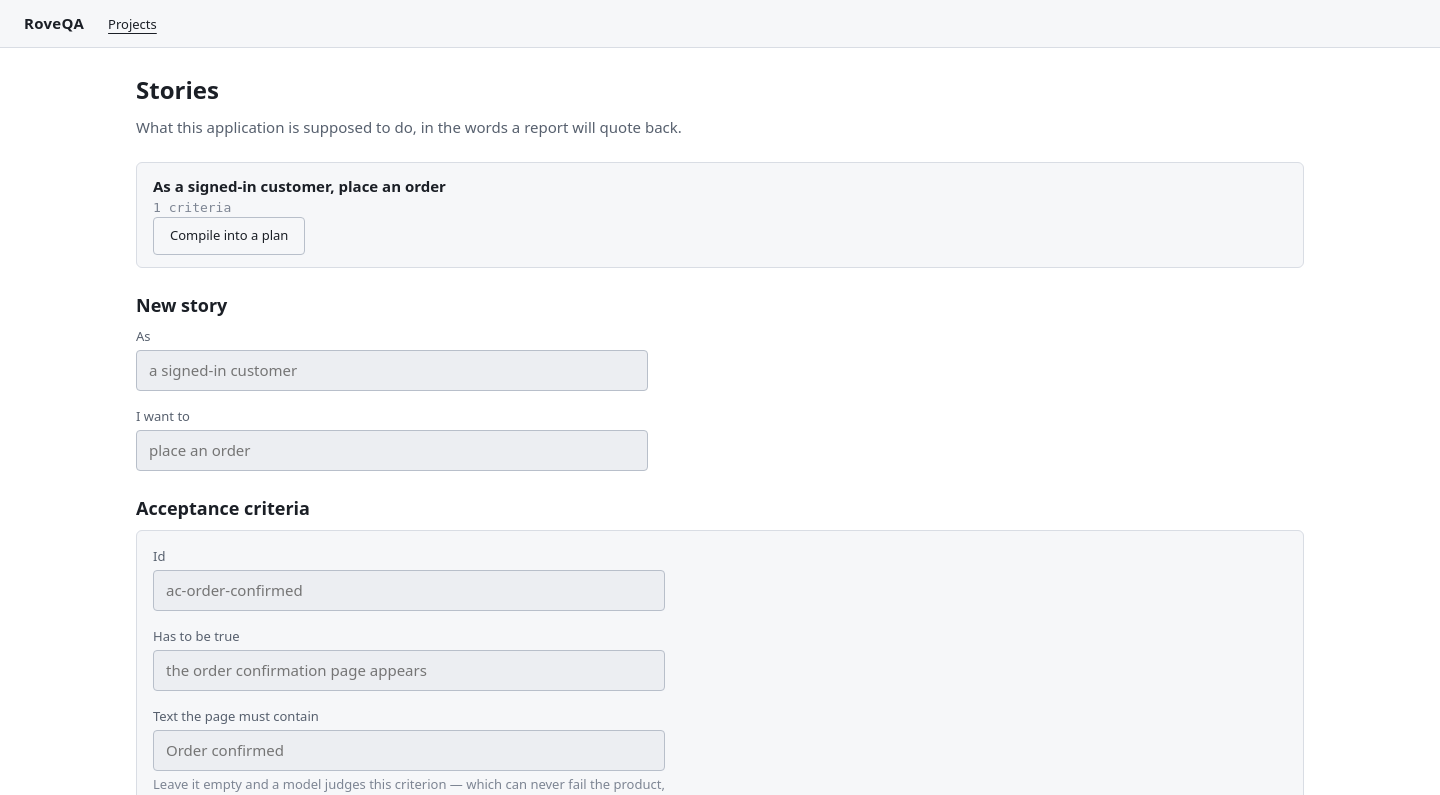
compiling › compiles under the project's policy and moves on to starting a run
Click the button "Compile into a plan".
click(229, 236)  # box [153,217,305,254]
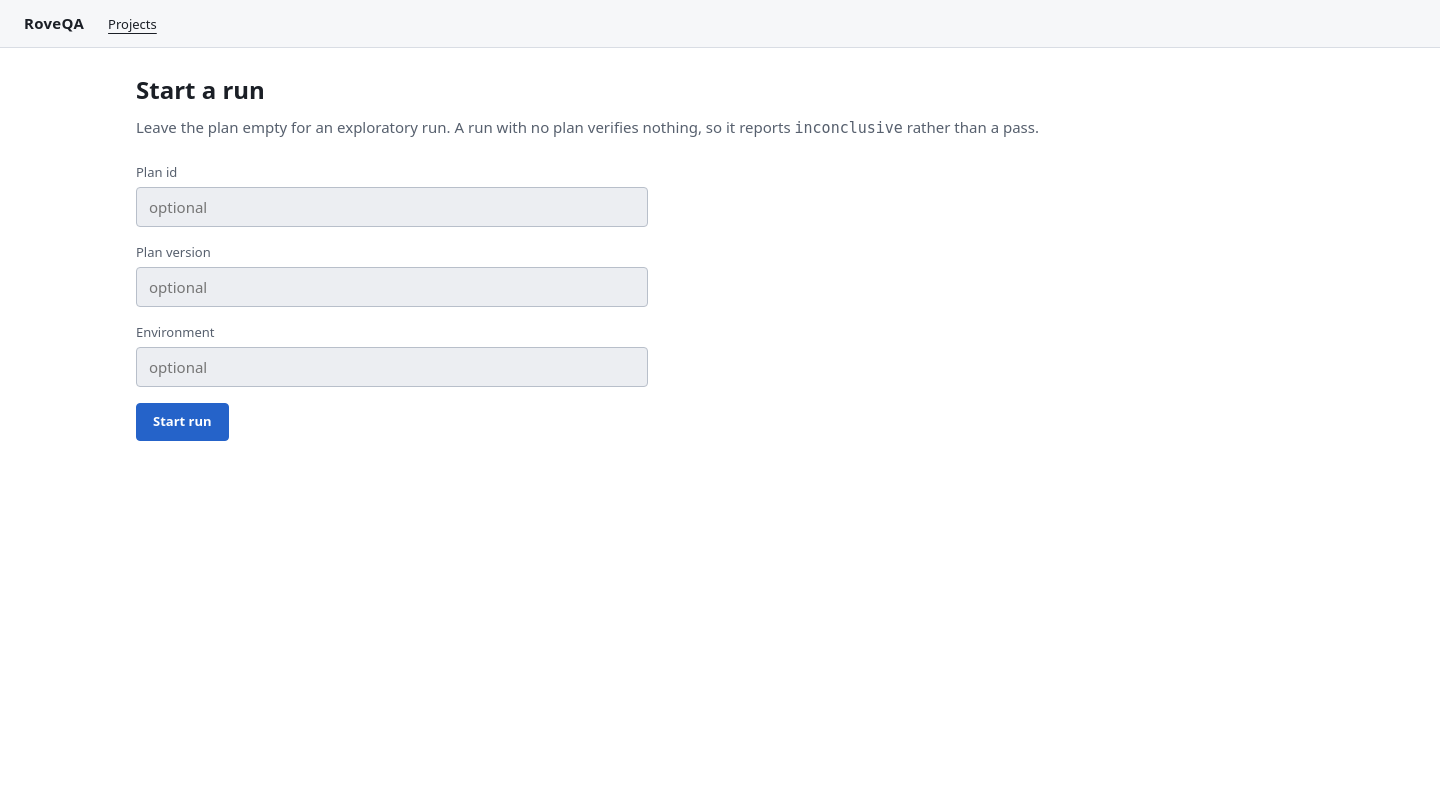
Expected: the heading "Start a run" is shown, [136,72,265,106]
